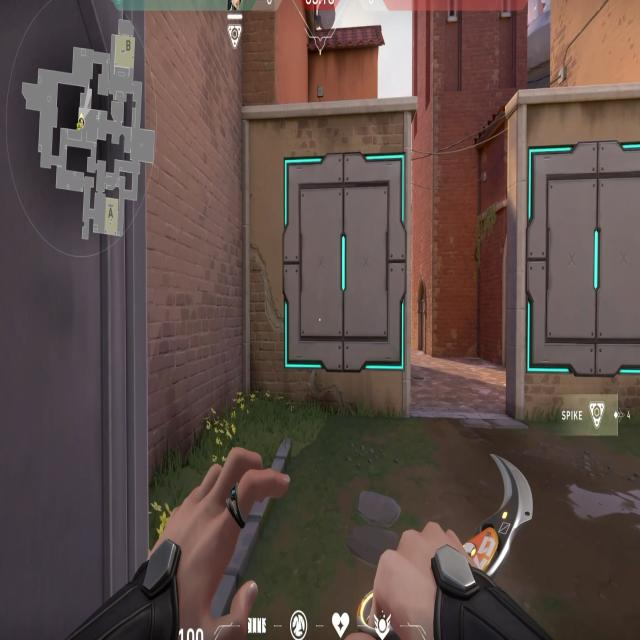Mid_Wall: (264, 98, 417, 414), (515, 95, 640, 410)
